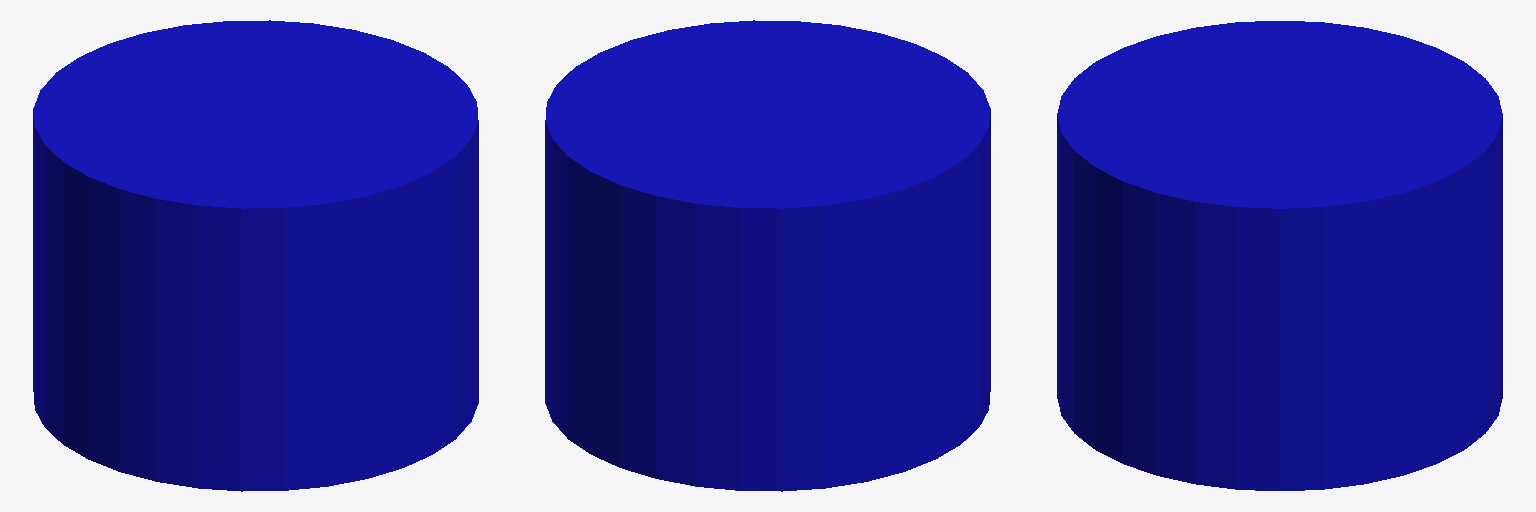
robot.urdf — iris_vlp16:
<?xml version="1.0"?>
<robot name="iris_vlp16">
  <!-- FAST-LIO tracking frame (IMU origin) -->
  <link name="body"/>

  <!-- Joint connecting FAST-LIO body to PX4 base_link -->
  <joint name="body_to_base_link_joint" type="fixed">
    <parent link="body"/>
    <child link="base_link"/>
    <origin xyz="0 0 0" rpy="0 0 0"/>
  </joint>

  <!-- Base Link (Drone Body) -->
  <link name="base_link">
    <visual>
      <origin xyz="0 0 0" rpy="0 0 0"/>
      <geometry>
        <mesh filename="file:///home/developer/NIDAR/simulation/PX4-Autopilot-v1.14.3/Tools/simulation/gazebo-classic/sitl_gazebo-classic/models/iris_vlp16/iris/meshes/iris.stl" scale="1 1 1"/>
      </geometry>
      <material name="dark_grey">
        <color rgba="0.2 0.2 0.2 1.0"/>
      </material>
    </visual>
  </link>

  <!-- LiDAR Link -->
  <link name="velodyne_link">
    <visual>
      <origin xyz="0 0 0" rpy="0 0 0"/>
      <geometry>
        <cylinder radius="0.05" length="0.07"/>
      </geometry>
      <material name="blue">
        <color rgba="0.1 0.1 0.8 1.0"/>
      </material>
    </visual>
  </link>

  <!-- Joint connecting them (Z offset matching SDF height 0.08) -->
  <joint name="velodyne_joint" type="fixed">
    <parent link="base_link"/>
    <child link="velodyne_link"/>
    <origin xyz="0 0 0.12" rpy="0 0 0"/>
  </joint>
</robot>

--- Facts derived from the render (not from the file) ---
3 views of the same robot in one strip: view 1: azimuth 30°, elevation 25°; view 2: azimuth 150°, elevation 25°; view 3: azimuth 270°, elevation 25° (orthographic).
Robot: iris_vlp16 — 3 links, 2 joints (2 fixed); root link body; default pose: every joint at zero.
Links seen in each view (by area): view 1: velodyne_link; view 2: velodyne_link; view 3: velodyne_link.
Boxes of the visible links, left/top/right/bottom form: velodyne_link: left=33, top=20, right=478, bottom=491; velodyne_link: left=545, top=20, right=990, bottom=491; velodyne_link: left=1057, top=21, right=1502, bottom=490.
Bounding box of the posed robot: 0.1 × 0.1 × 0.07 m (x, y, z).
Geometry: only primitive shapes (box / cylinder / sphere) drawn; not drawn: 1 mesh visual (reference in a form the renderer does not follow).
